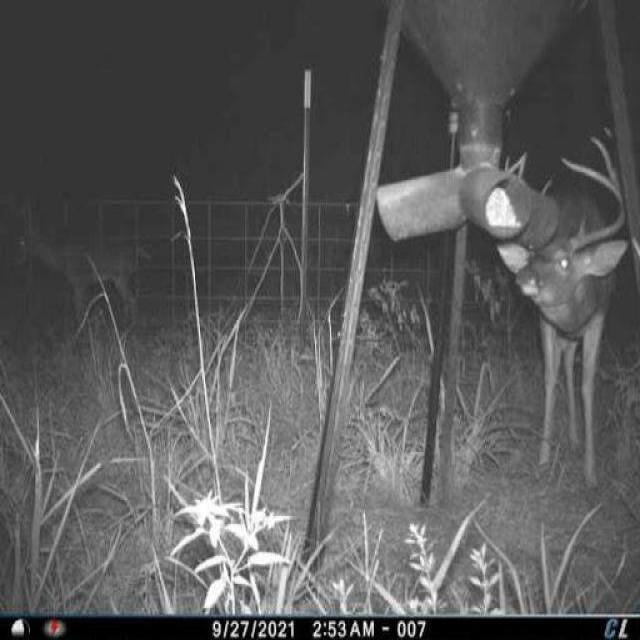deer: (490, 129, 640, 500), (8, 192, 158, 340)
